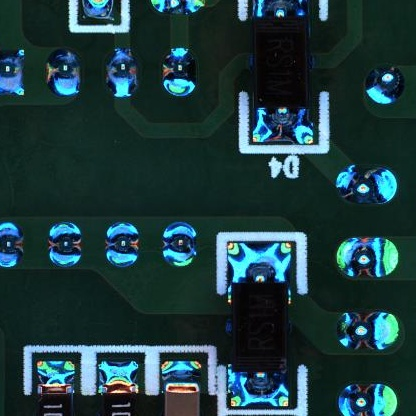spot: (335, 236, 399, 277), (336, 165, 395, 204), (338, 312, 397, 348), (339, 384, 395, 416), (47, 46, 82, 97), (162, 221, 199, 267), (366, 64, 407, 105), (164, 49, 197, 97), (105, 222, 139, 268), (106, 48, 136, 98), (49, 221, 82, 266), (1, 48, 24, 94), (1, 222, 22, 268)
